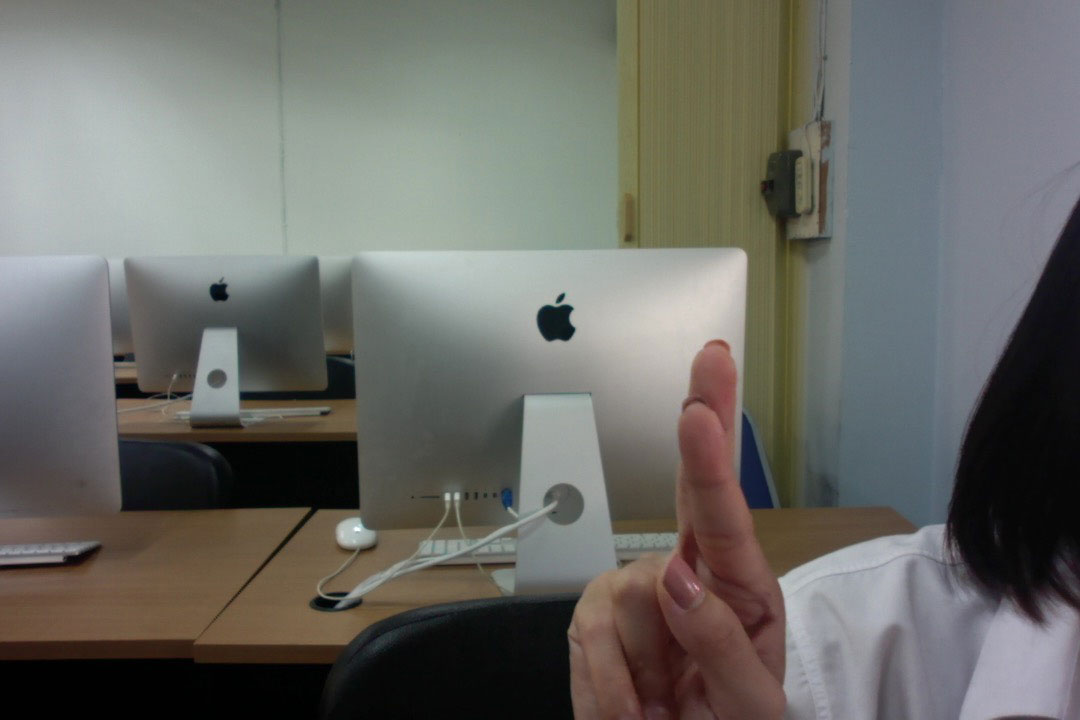rao: (545, 333, 809, 719)
